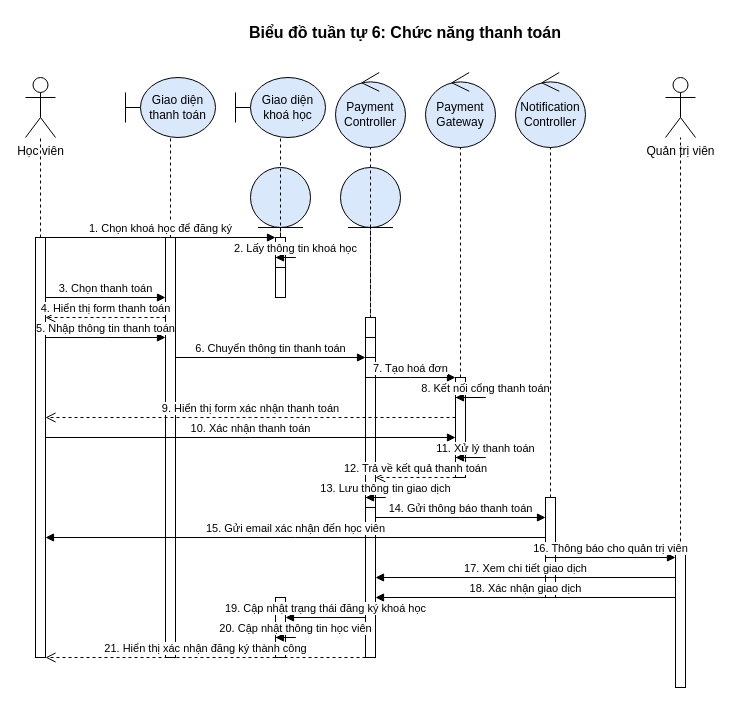
This 732x705 diagram has some shape labels left out. Each missing label, with the box of its shape:
Course: (250, 166, 310, 228)
Payment: (340, 166, 400, 228)
